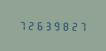eight: (62, 20, 70, 31)
nine: (53, 20, 61, 31)
seven: (17, 19, 25, 30), (80, 20, 88, 31)
six: (35, 19, 43, 30)
three: (44, 19, 52, 30)
two: (26, 19, 34, 30), (71, 20, 79, 31)
